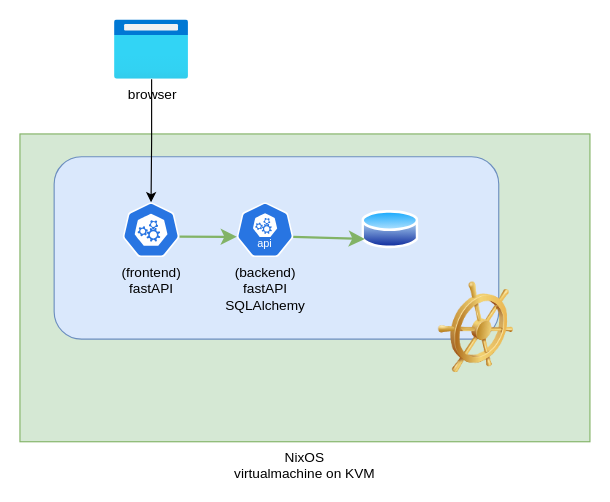
Image size: 610x502. Some labels were removed from this diagram. The centre of each missing label's shape, as x and y in pixels:
"(Database) postgresql" belongs at (389,229).
"K3S cluster" belongs at (475,327).
